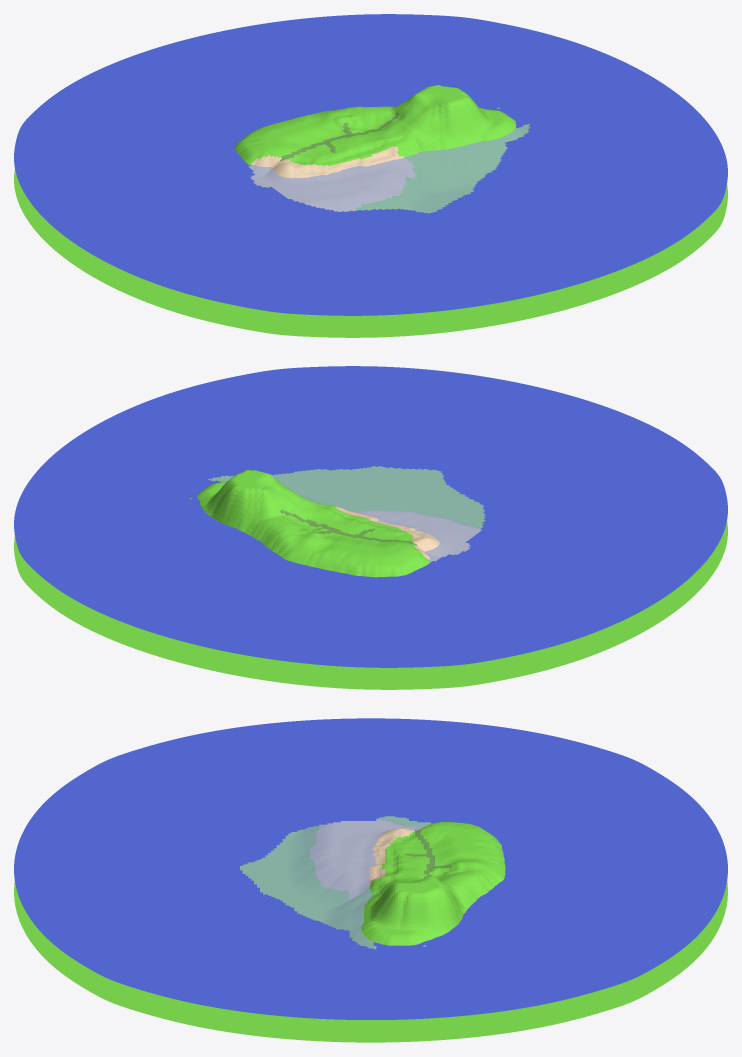
The model's file is island.fbx.
3 views of the same model, one above another, from view 1: azimuth 30°, elevation 25°; view 2: azimuth 150°, elevation 25°; view 3: azimuth 270°, elevation 25° (orthographic). The views are drawn at different scales.
Visible parts, largest first — view 1: Plane.001, Plane; view 2: Plane.001, Plane; view 3: Plane.001, Plane.
Part boxes in pixels (x1,y1,x2,y2): Plane.001: (14, 14, 727, 315); Plane: (14, 85, 727, 337); Plane.001: (14, 366, 727, 667); Plane: (14, 466, 727, 689); Plane.001: (14, 718, 727, 1019); Plane: (14, 816, 727, 1042).
Size of the model in its own units: 1831 by 152 by 1831.
